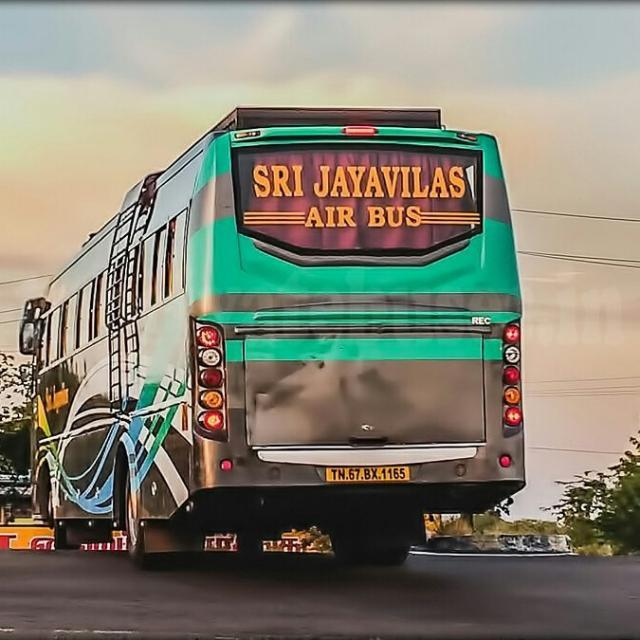Bus: (16, 103, 531, 568)
